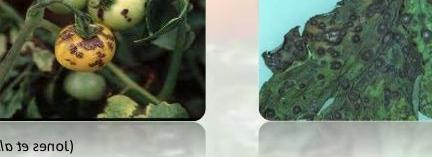Tomato leaf bacterial spot: (259, 0, 432, 120)
